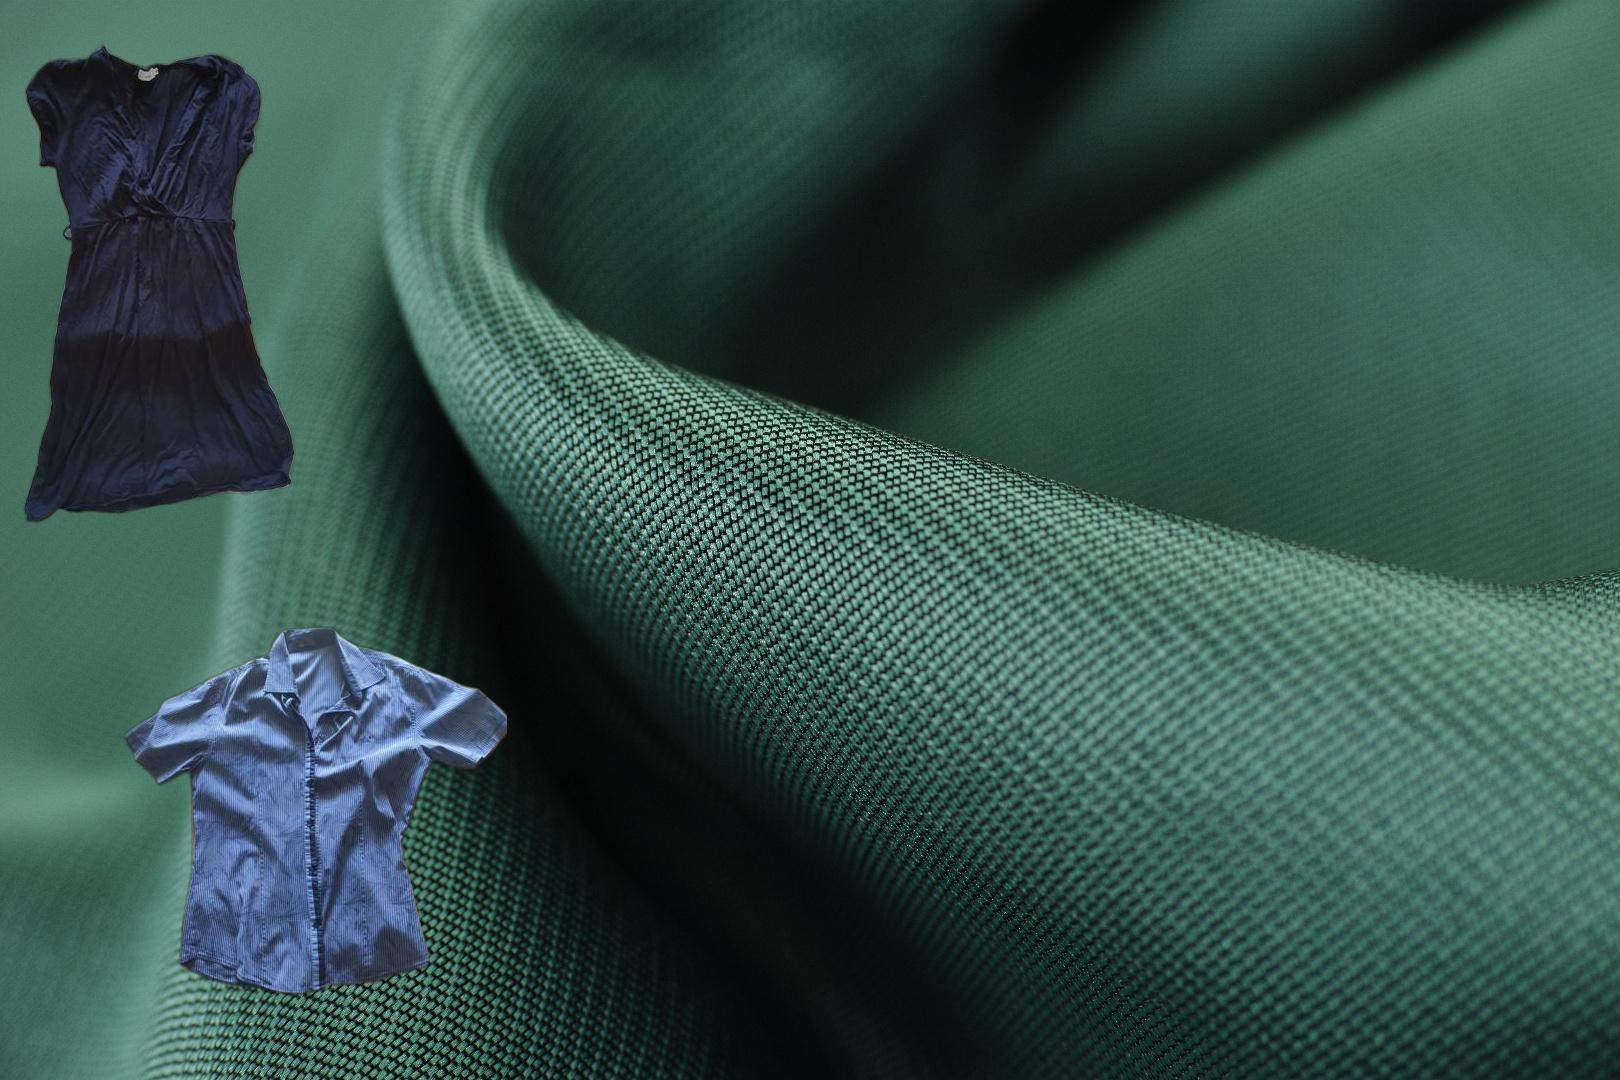clothes: (121, 623, 507, 998), (20, 40, 297, 527)
